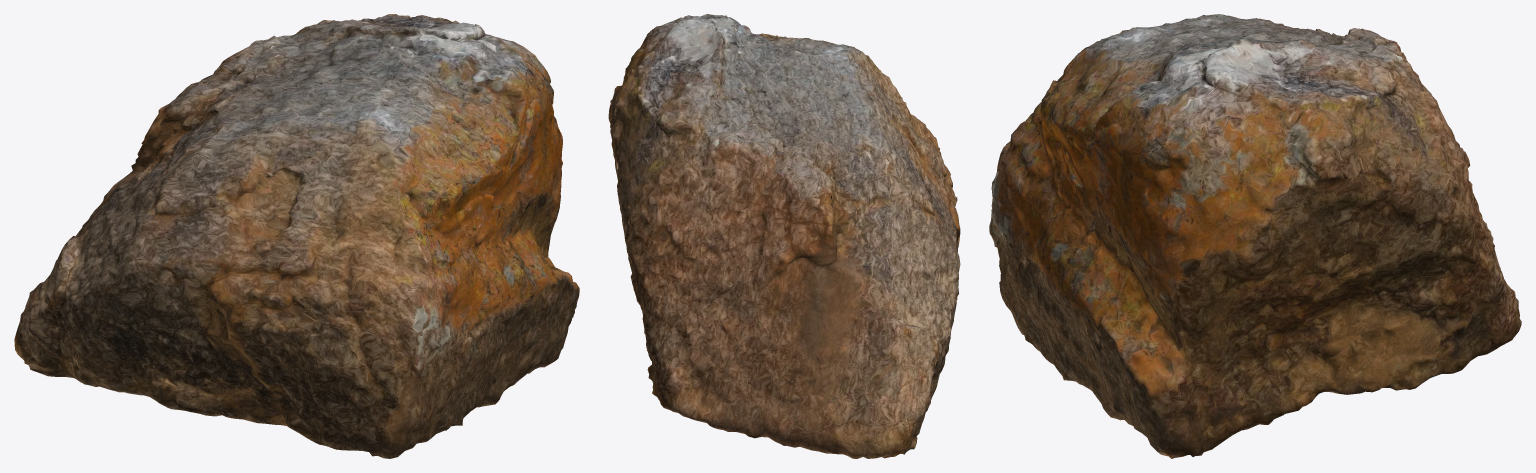
Rendered from namaqualand-boulder-04.glb.
The picture shows the model from 3 angles, left to right: view 1: azimuth 30°, elevation 25°; view 2: azimuth 150°, elevation 25°; view 3: azimuth 270°, elevation 25°; orthographic projection. The views are drawn at different scales.
Visible parts, largest first — view 1: namaqualand_boulder_04; view 2: namaqualand_boulder_04; view 3: namaqualand_boulder_04.
Boxes of the visible parts, left/top/right/bottom form: namaqualand_boulder_04: left=14, top=14, right=579, bottom=458; namaqualand_boulder_04: left=608, top=14, right=960, bottom=458; namaqualand_boulder_04: left=989, top=14, right=1521, bottom=458.
Size of the model in its own units: 2.52 by 1.9 by 2.5.
Materials: 1 (1 with a texture image).
